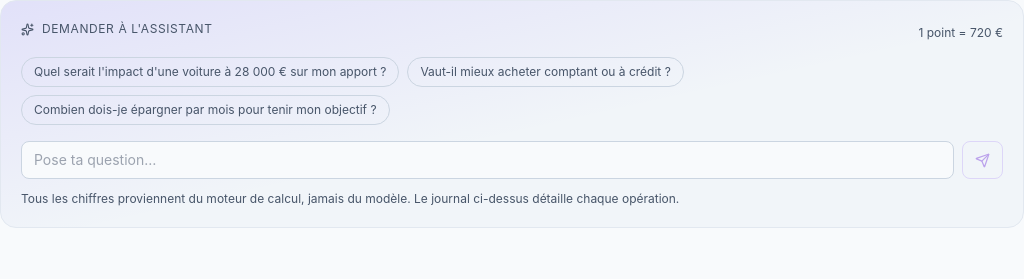
AssistantHorizon › affiche une erreur sans casser le fil
The image size is (1024, 279).
Click the button "Combien dois-je épargner par mois pour tenir mon objectif ?": [205, 110] box top-left (21, 95), bottom-right (390, 125)
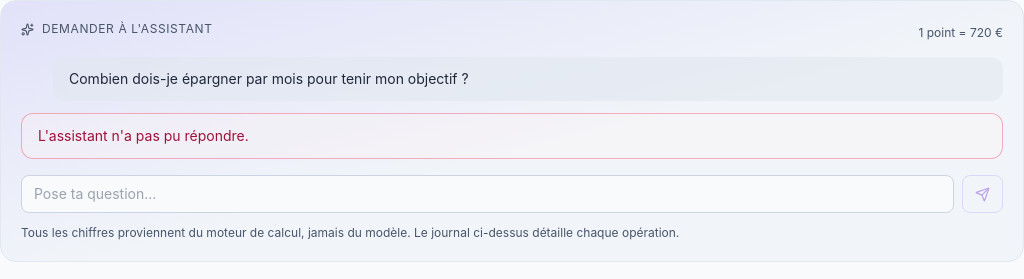
Expected: the field named "Question à l'assistant" is shown, top-left (21, 175), bottom-right (954, 213)
Result: the text "L'assistant n'a pas pu répondre." is shown at top-left (38, 127), bottom-right (249, 144)
